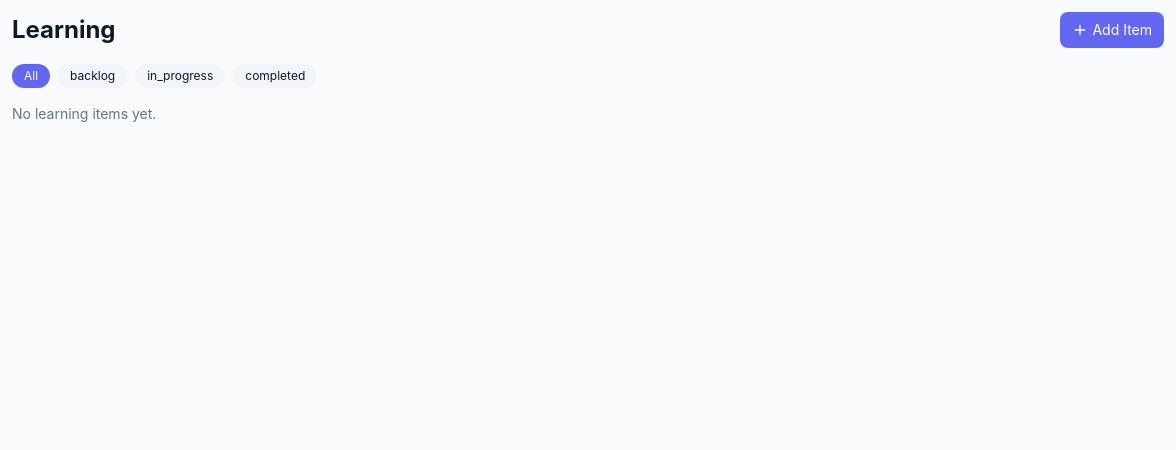
Learning › shows form when Add Item clicked
This screenshot has width=1176, height=450.
Click the button "Add Item": (1112, 30) [1060, 12, 1164, 48]
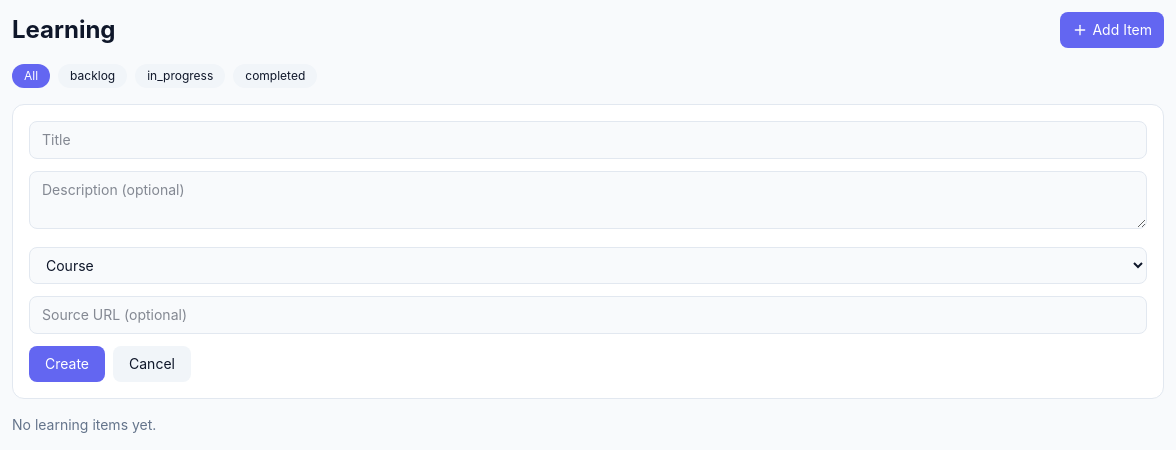
Expected: the field with placeholder "Title" is shown, [29, 121, 1147, 159]
Expected: the field with placeholder "Source URL (optional)" is shown, [29, 296, 1147, 334]
